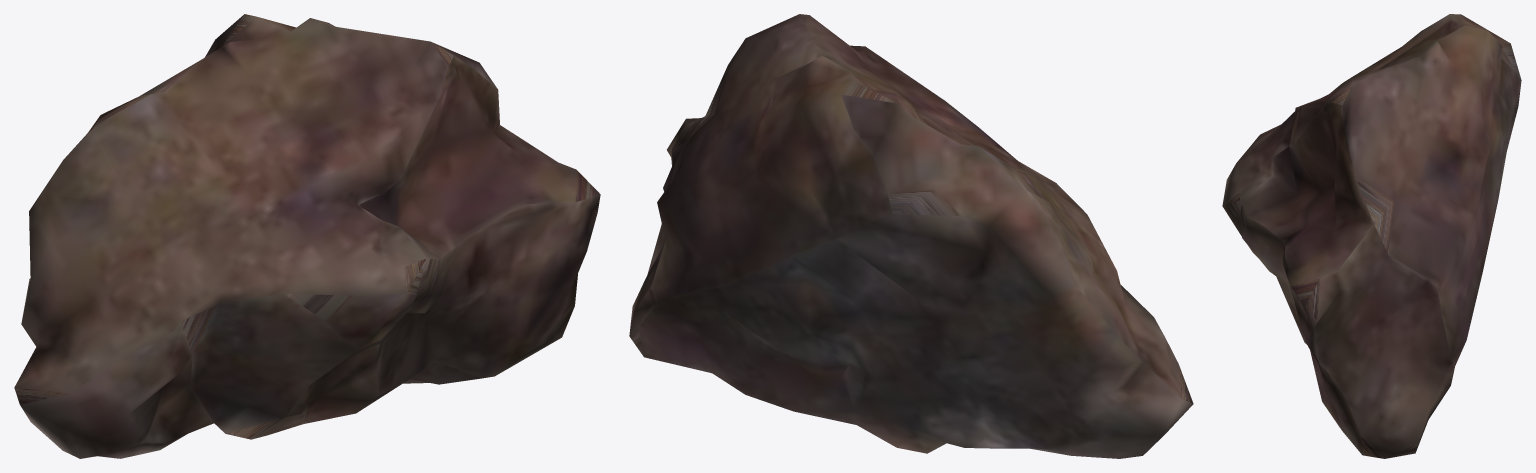
Rendered from bw-cliff-23.lod1.glb.
The picture shows the model from 3 angles, left to right: view 1: azimuth 30°, elevation 25°; view 2: azimuth 150°, elevation 25°; view 3: azimuth 270°, elevation 25°; orthographic projection. The views are drawn at different scales.
Visible parts, largest first — view 1: Object_2; view 2: Object_2; view 3: Object_2.
Boxes of the visible parts, x1,y1,x2,y2 form: Object_2: (14,14,600,458); Object_2: (629,14,1193,458); Object_2: (1222,14,1521,458).
Size of the model in its own units: 9.97 by 6.59 by 5.08.
Materials: 1 (1 with a texture image).
